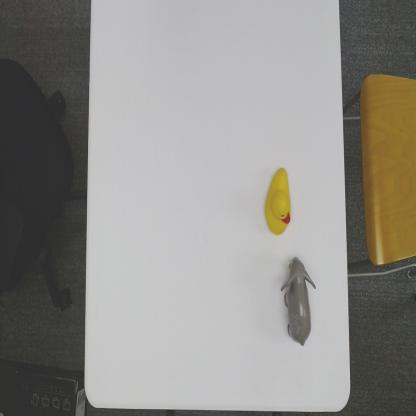Duck: (263, 165, 295, 238)
Elephant: (279, 254, 318, 348)
